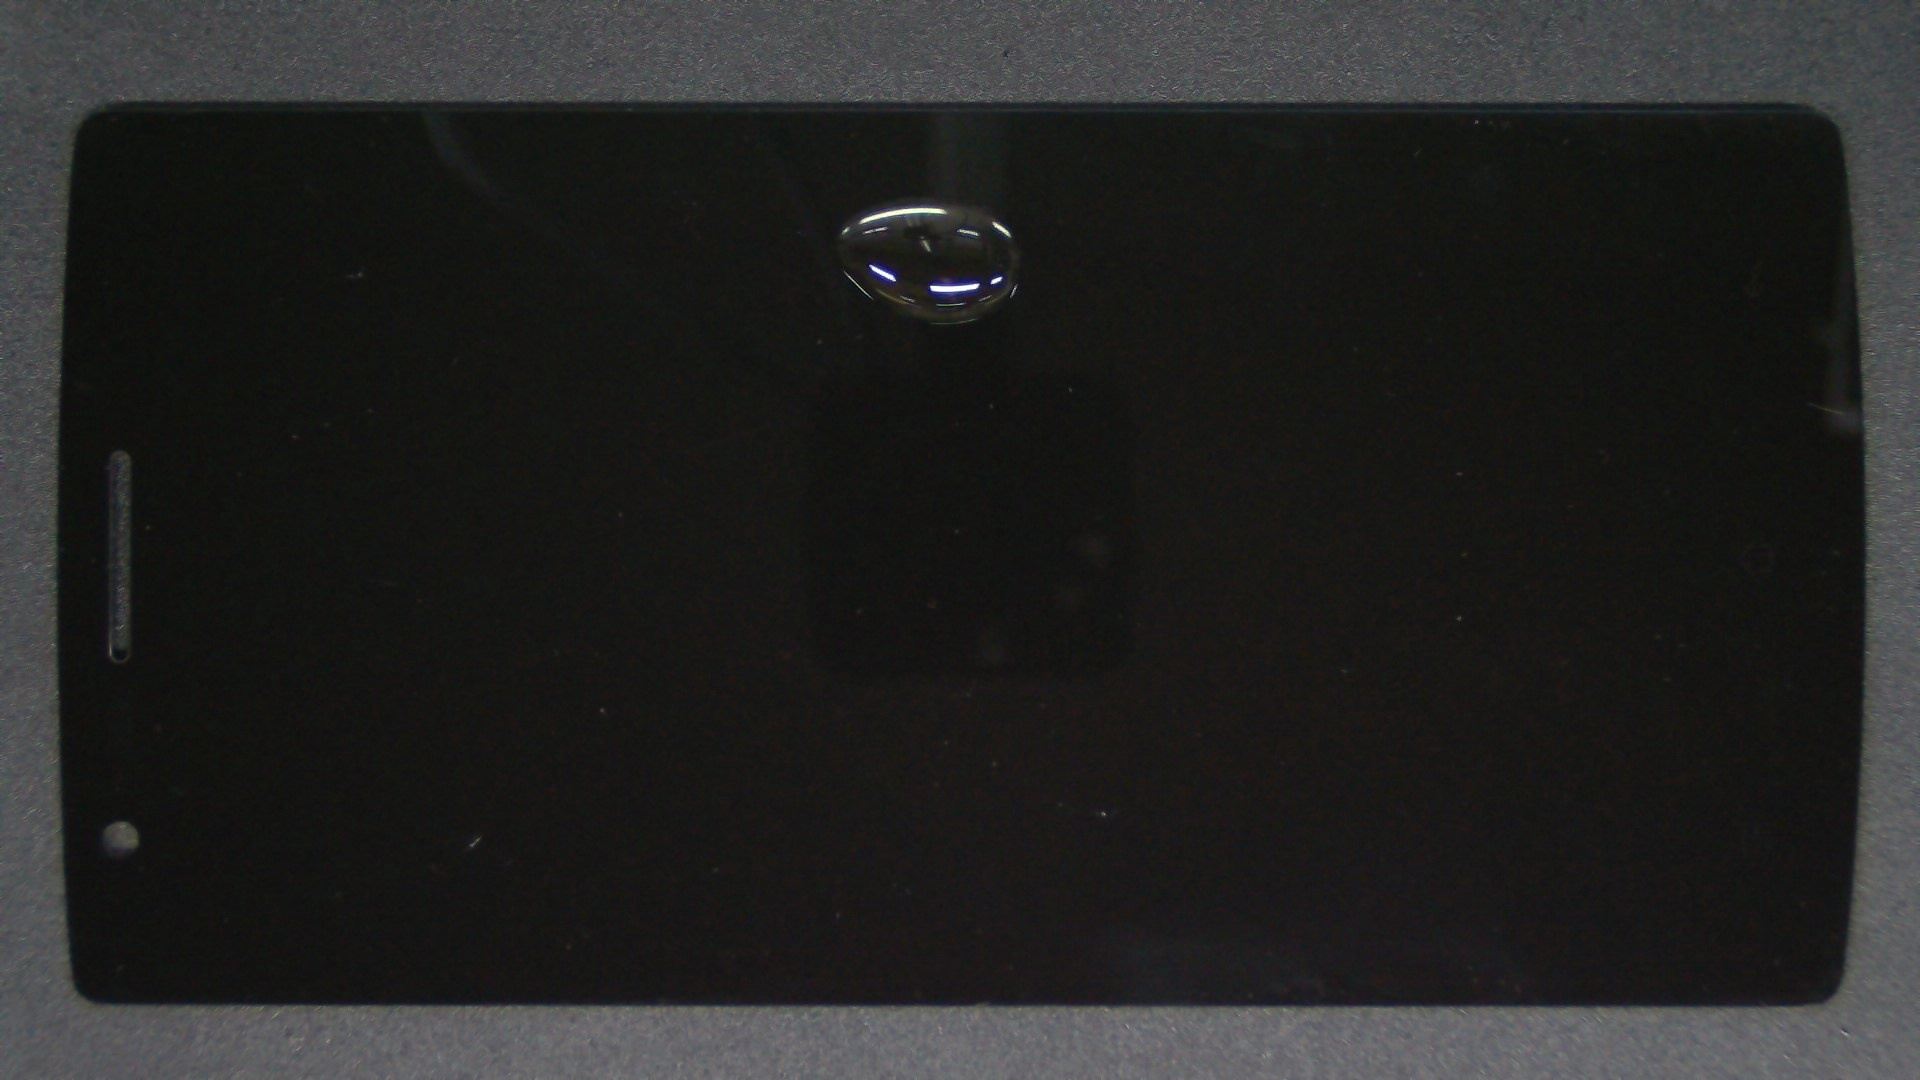oil: (456, 98, 1366, 295)
